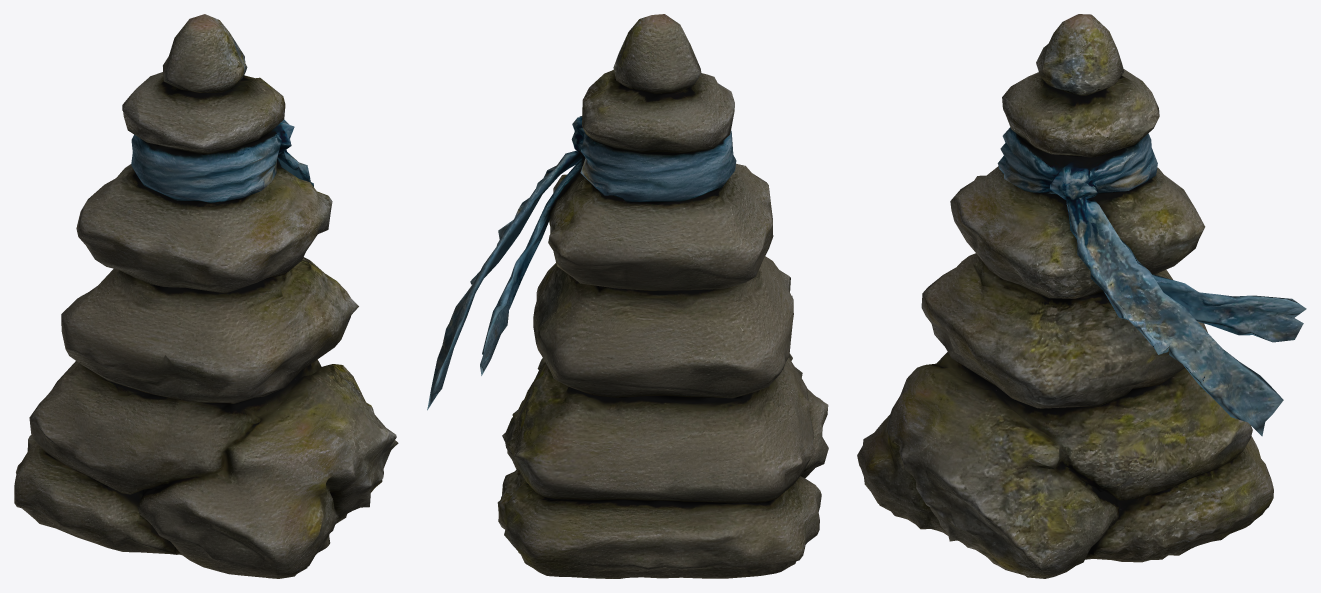
Rendered from steppe-cairn-tripo.glb.
3 renders of one model, left to right at view 1: azimuth 30°, elevation 25°; view 2: azimuth 150°, elevation 25°; view 3: azimuth 270°, elevation 25°, orthographic. The views are drawn at different scales.
Visible parts, largest first — view 1: tripo_node_55243b75-1d41-4d85-9936-e6c6a31ac78e; view 2: tripo_node_55243b75-1d41-4d85-9936-e6c6a31ac78e; view 3: tripo_node_55243b75-1d41-4d85-9936-e6c6a31ac78e.
Part boxes in pixels (x1,y1,x2,y2): tripo_node_55243b75-1d41-4d85-9936-e6c6a31ac78e: (14,14,398,578); tripo_node_55243b75-1d41-4d85-9936-e6c6a31ac78e: (427,14,828,578); tripo_node_55243b75-1d41-4d85-9936-e6c6a31ac78e: (857,14,1306,578).
Size of the model in its own units: 0.6977 by 1 by 0.8177.
1 material, 1 textured.
